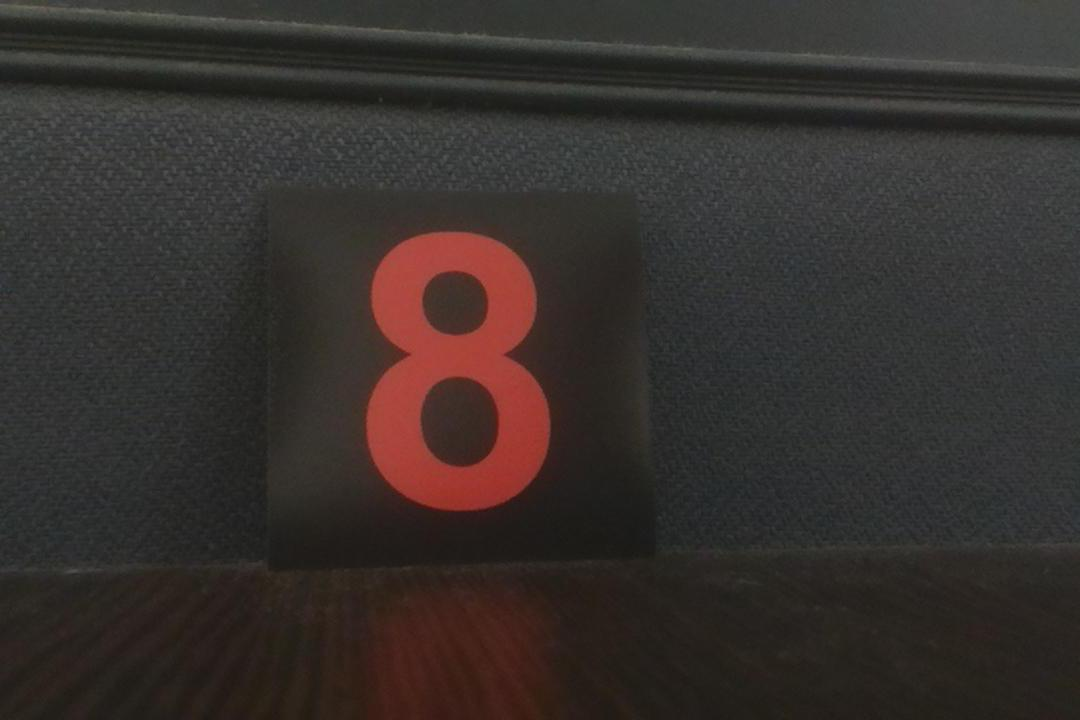eight: (265, 187, 665, 563)
